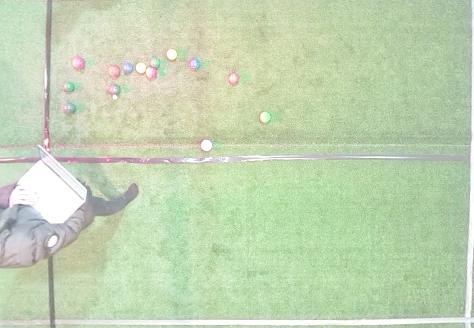blue: (189, 59, 200, 70), (122, 63, 133, 73)
green: (62, 103, 76, 114), (108, 84, 121, 94), (260, 112, 271, 123), (63, 82, 75, 92), (149, 58, 160, 68)
red: (72, 56, 84, 69), (145, 67, 157, 79), (108, 65, 120, 77), (228, 73, 239, 85), (201, 140, 212, 151)
vline: (1, 1, 53, 150), (1, 256, 56, 327), (463, 1, 473, 327)
white: (112, 95, 117, 100)
yellow: (167, 49, 177, 60), (136, 63, 146, 73)
